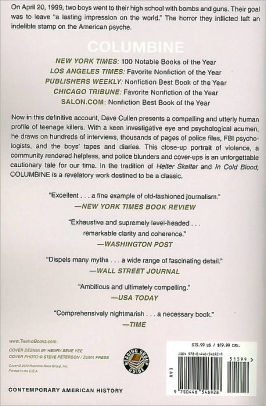barcode: (174, 353, 259, 397)
